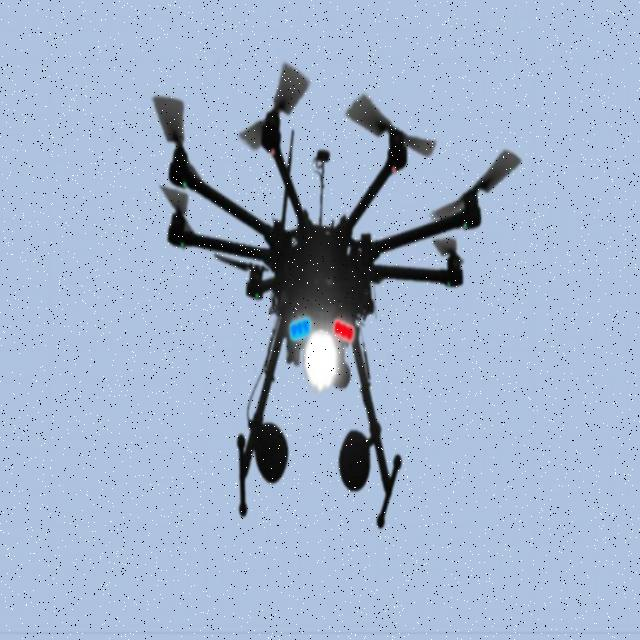UAV: (166, 94, 481, 536)
